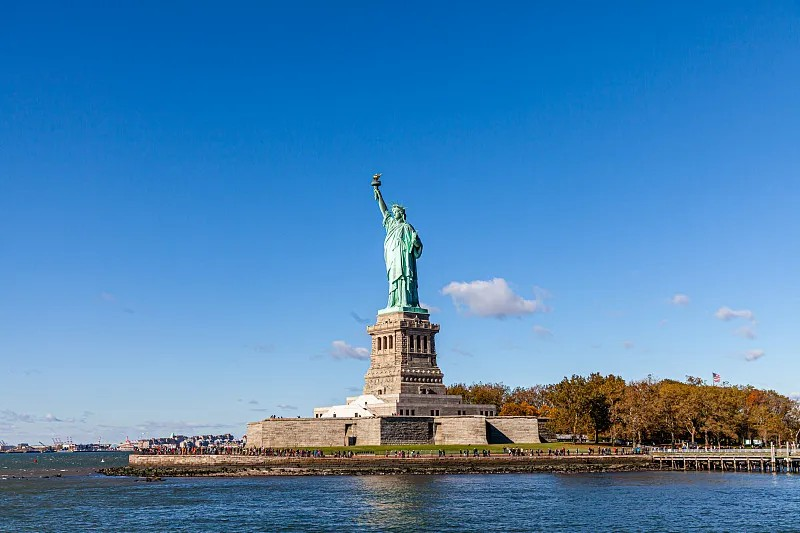SL: (363, 172, 446, 395)
